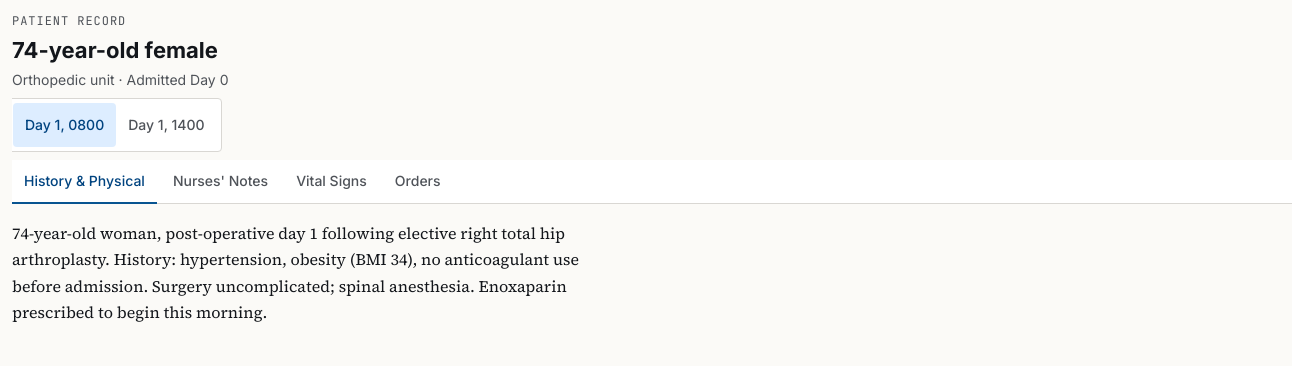
EhrContent › swaps the charted sections when the time changes, and says which time is showing
The width and height of the screenshot is (1292, 366).
Expected: the tab "Lab Results" is not shown
Click the radio button labelled "Day 1, 1400" at (166, 125), box [116, 103, 216, 147]
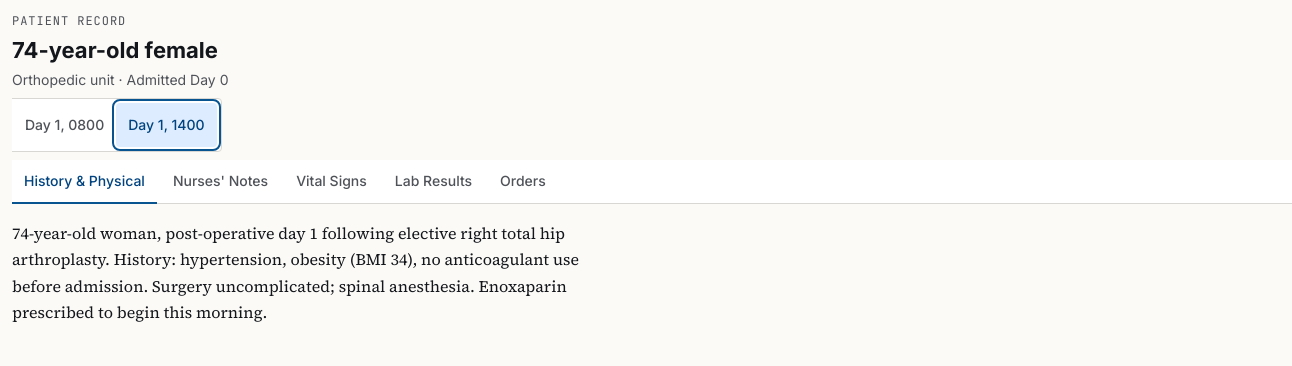
Expected: the tab "Lab Results" is shown, [383, 160, 484, 204]
Click the tab "Nurses' Notes" at (221, 182), box [161, 160, 280, 204]
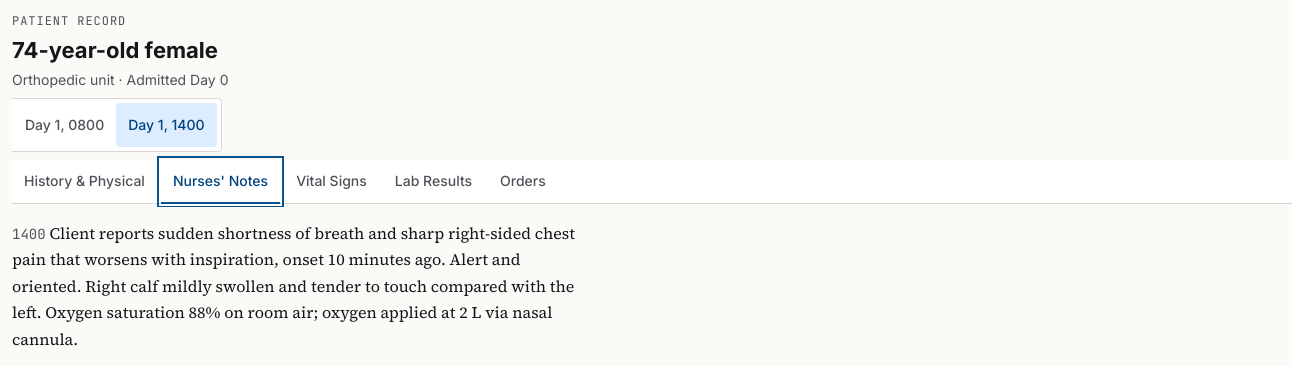
Expected: the tab "Vital Signs" is shown, [284, 160, 379, 204]
Expected: the text "sudden shortness of breath" is shown, [12, 222, 575, 350]
